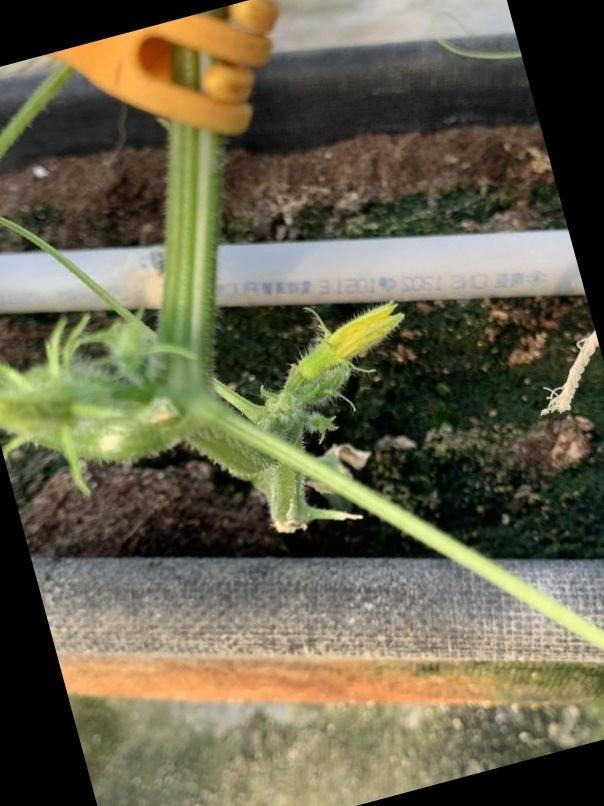bud: (292, 300, 406, 382)
